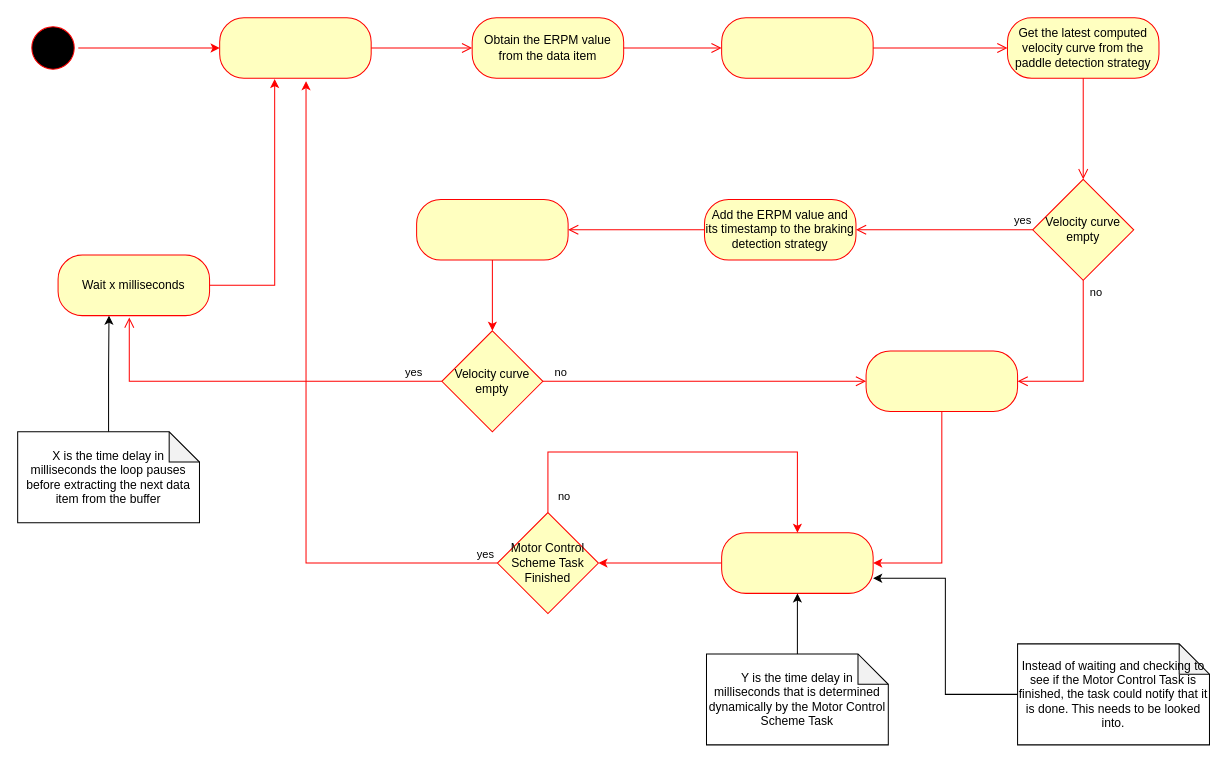
This 1227x763 diagram has some shape labels left out. Each missing label, with the centre of its shape:
"Activate the motor control scheme task with this velocity curve as the input." belongs at [941,381].
"Add the ERPM value and its timestamp to the paddle detection strategy" belongs at [797,47].
"Extract the last data item from the VESC State buffer" belongs at [295,47].
"Get the latest computed velocity curve from the braking detection strategy" belongs at [492,229].
"Wait y milliseconds" belongs at [797,562].
